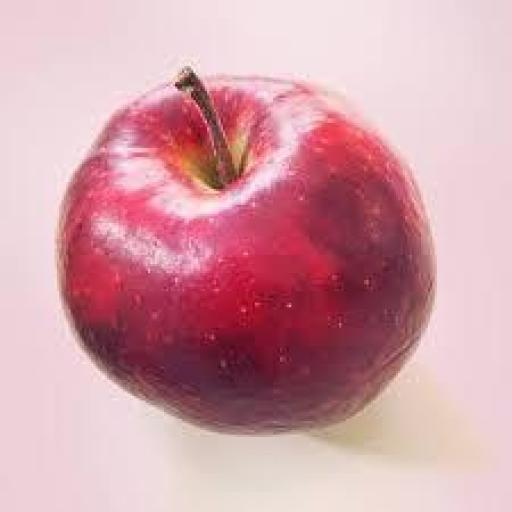apple: (60, 69, 434, 432)
